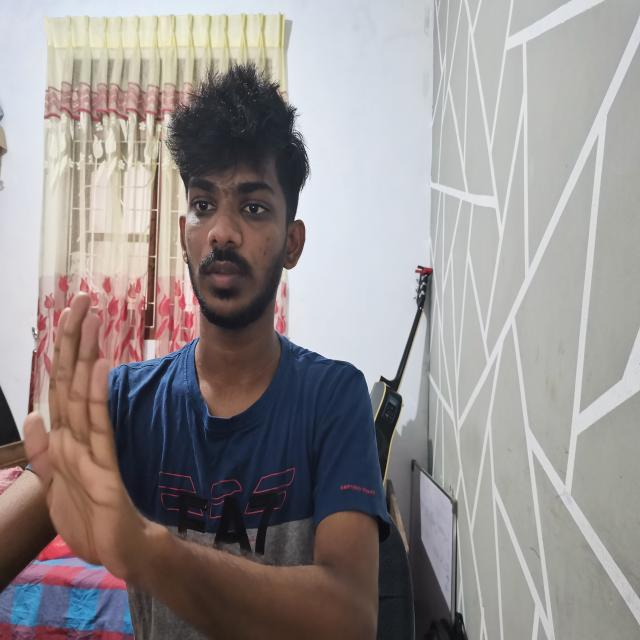Hello: (25, 298, 136, 578)
